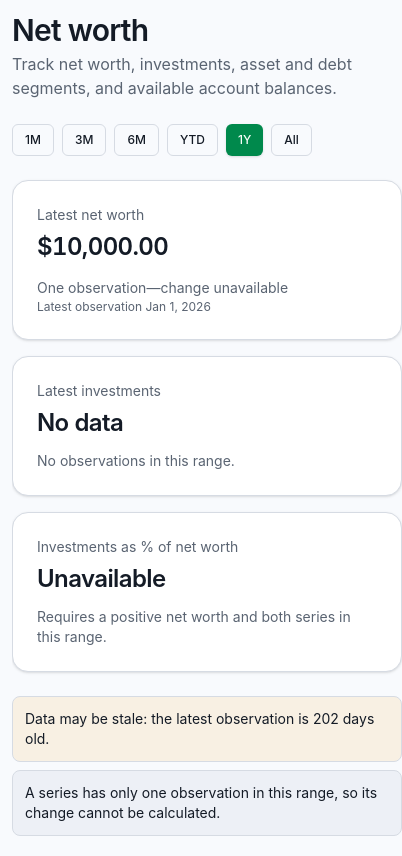
it: NetWorthDashboard › supports all range controls and explains a range with no observations
Expected: the button "3M" is shown, [62, 124, 106, 156]
Expected: the button "6M" is shown, [114, 124, 159, 156]
What coordinates should you click on to do the following:
click the button "1M"
I would click on:
 (33, 140)
Its box is [12, 124, 54, 156].
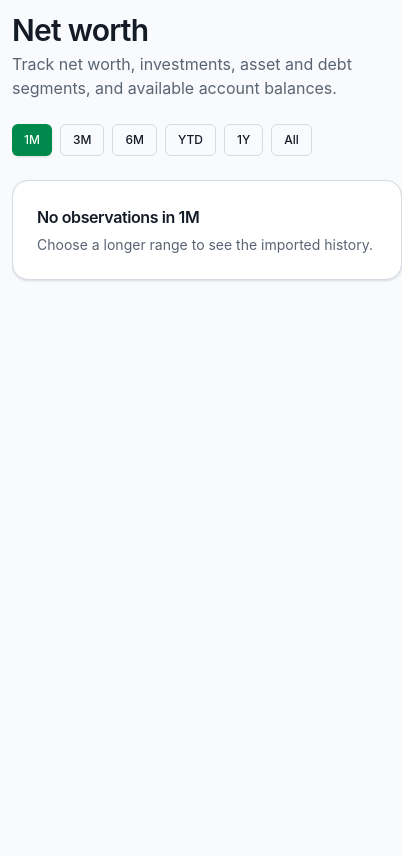
Expected: the heading "No observations in 1M" is shown, [37, 207, 199, 227]
